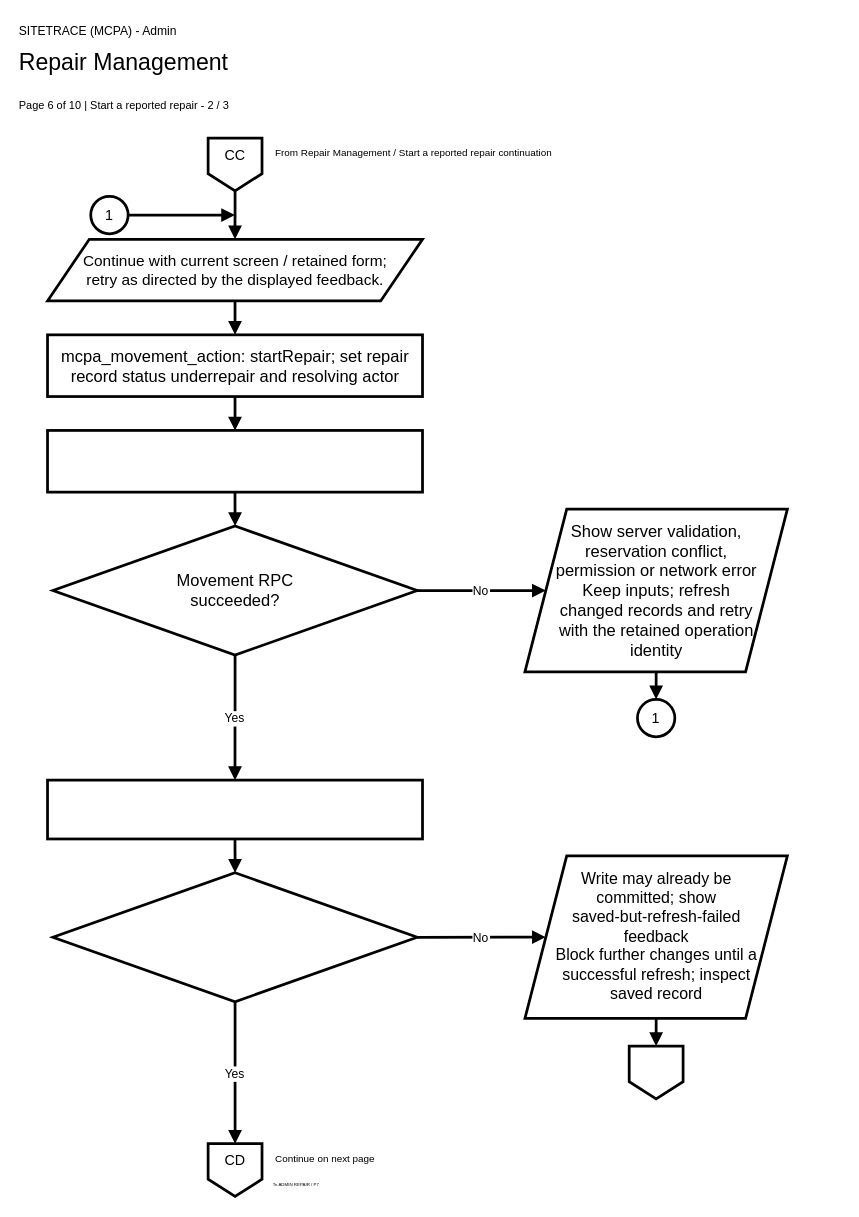
Image size: 859x1217. Some labels were removed from this diagram. Here are the shapes that lost their labels. From the top down, the centre of each, then its label:
At point 234,461: "Record operation activity and eligible notifications; keep equipment unavailable".
At point 234,809: "Refresh committed movement snapshot".
At point 234,937: "Committed records refreshed?".
At point 655,1072: "XX".
